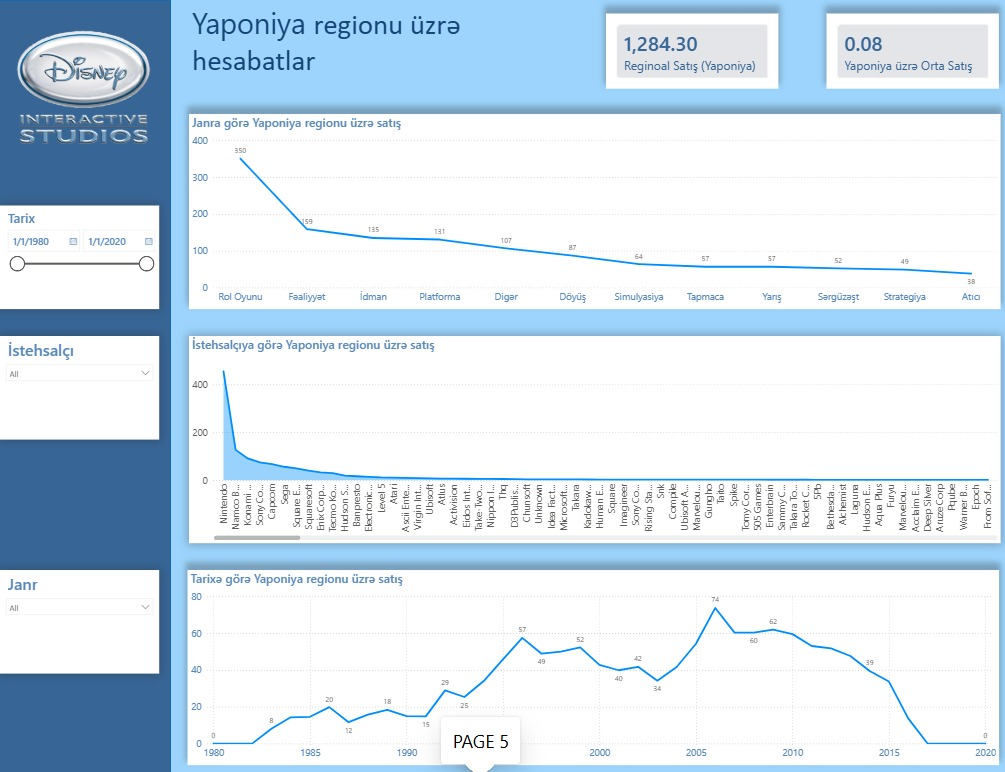

The dashboard page shown, as its layout file describes it:
{"tool":"powerbi","page":{"name":"PAGE 5","canvas":[1700,1300],"ordinal":4},"visuals":[{"type":"shape","box":[0,0,295,1300],"z":0},{"type":"image","box":[25,0,250,295],"z":1000},{"type":"lineChart","title":"Tarixə görə Yaponiya regionu üzrə satış","fields":{"Y":["Sheet 2.Reginoal Satış (Yaponiya)"],"Category":["Sheet 2.Tarix"]},"box":[322.5,950,1352.5,325],"z":2000},{"type":"areaChart","title":"İstehsalçıya görə Yaponiya regionu üzrə satış","fields":{"Category":["Sheet 2.İstehsalçı"],"Y":["Sheet 2.Reginoal Satış (Yaponiya)"]},"box":[325,560,1352.5,345],"z":3000},{"type":"lineChart","title":"Janra görə Yaponiya regionu üzrə satış","fields":{"Y":["Sheet 2.Reginoal Satış (Yaponiya)"],"Category":["Sheet 2.Janr"]},"box":[325,190,1352.5,325],"z":4000},{"type":"cardVisual","fields":{"Data":["Sheet 2.Reginoal Satış (Yaponiya)"]},"box":[1020,22.5,287.5,125],"z":5000},{"type":"cardVisual","fields":{"Data":["Sheet 2.Yaponiya üzrə Orta Satış"]},"box":[1387.5,22.5,287.5,125],"z":6000},{"type":"slicer","fields":{"Values":["Sheet 2.Tarix"]},"box":[10,342.5,265,172.5],"z":7000},{"type":"slicer","fields":{"Values":["Sheet 2.İstehsalçı"]},"box":[10,560,265,172.5],"z":8000},{"type":"slicer","fields":{"Values":["Sheet 2.Janr"]},"box":[10,950,265,172.5],"z":9000},{"type":"textbox","box":[325,0,617.5,190],"z":10000}]}

Visuals, with their boxes on the page's 1700x1300 design canvas (x1, y1, x2, y2). These are canvas units, not pixel positions in the 1005x772 screenshot, which may show the page scaled, cropped or inside an application window:
shape: bbox=(0, 0, 295, 1300)
image: bbox=(25, 0, 275, 295)
"Tarixə görə Yaponiya regionu üzrə satış" lineChart: bbox=(322, 950, 1675, 1275)
"İstehsalçıya görə Yaponiya regionu üzrə satış" areaChart: bbox=(325, 560, 1678, 905)
"Janra görə Yaponiya regionu üzrə satış" lineChart: bbox=(325, 190, 1678, 515)
cardVisual - Sheet 2.Reginoal Satış (Yaponiya): bbox=(1020, 22, 1308, 148)
cardVisual - Sheet 2.Yaponiya üzrə Orta Satış: bbox=(1388, 22, 1675, 148)
slicer - Sheet 2.Tarix: bbox=(10, 342, 275, 515)
slicer - Sheet 2.İstehsalçı: bbox=(10, 560, 275, 732)
slicer - Sheet 2.Janr: bbox=(10, 950, 275, 1122)
textbox: bbox=(325, 0, 942, 190)
